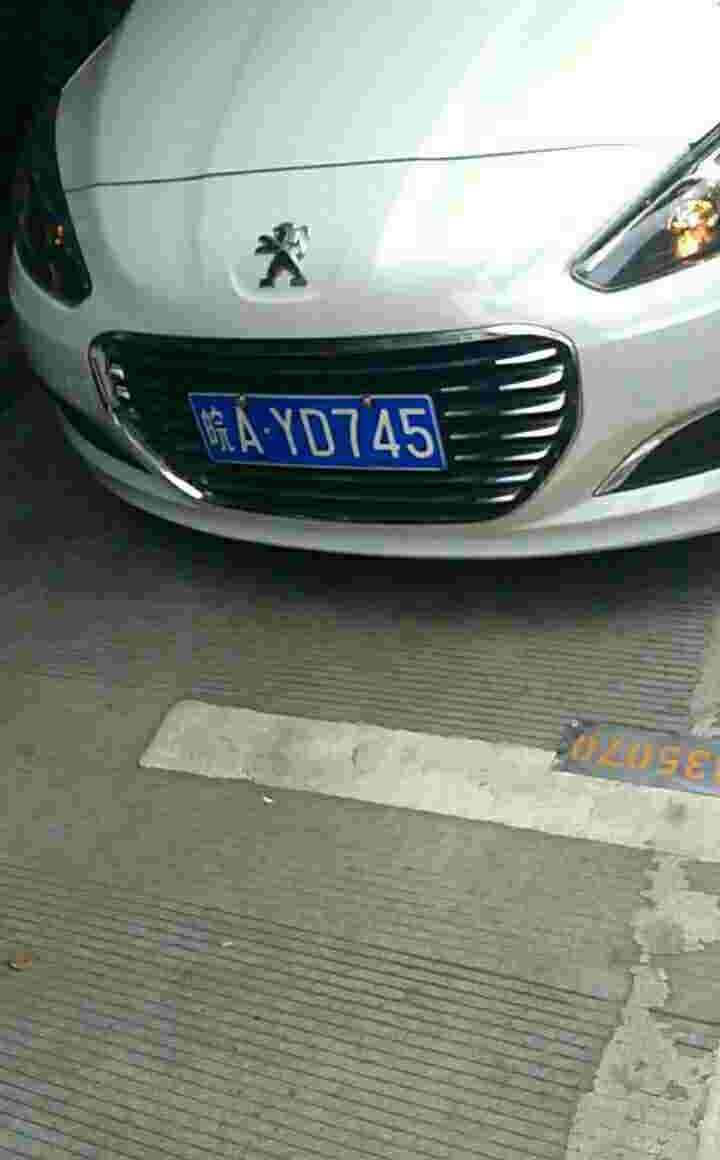plate: (182, 389, 454, 475)
